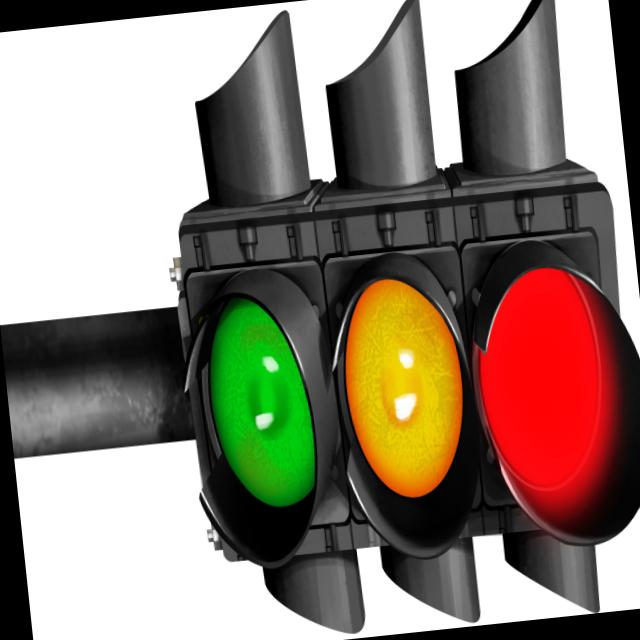green-lights: (167, 259, 325, 537)
red-lights: (468, 249, 634, 556)
yellow-lights: (317, 262, 488, 544)
